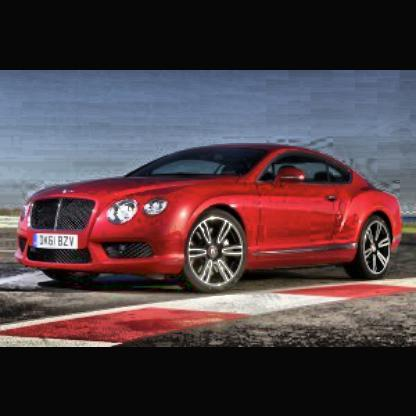Bentley Continental GT Coupe 2012: (14, 140, 407, 298)
